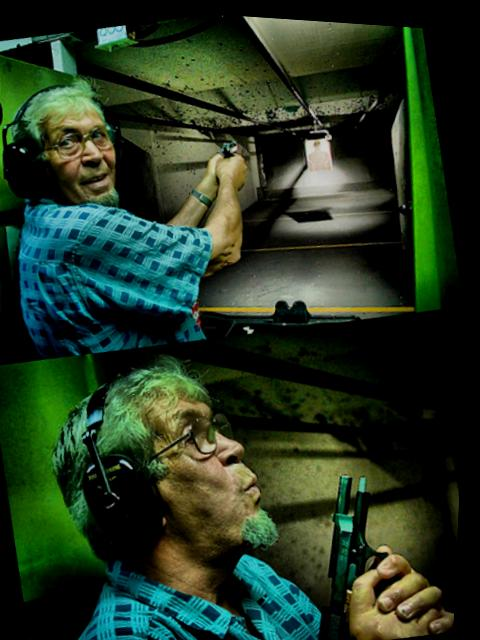pistol: (291, 455, 418, 640), (213, 132, 242, 154)
